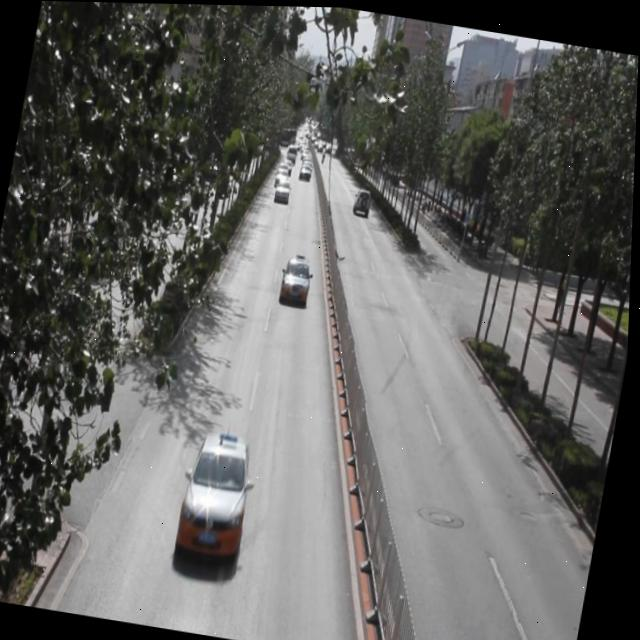car: (177, 424, 261, 559), (279, 252, 316, 306), (352, 186, 373, 216)
